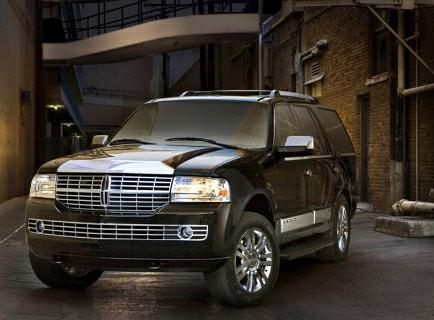林肯-领航员: (20, 82, 368, 304)
